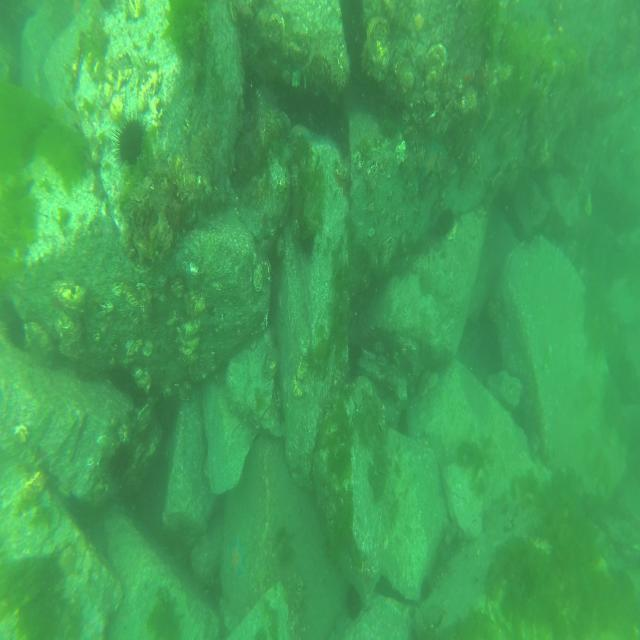echinus: (112, 109, 151, 174), (109, 440, 136, 481), (343, 580, 363, 624), (435, 207, 458, 236)
holothurian: (288, 577, 307, 627)
starfish: (226, 533, 249, 584)
